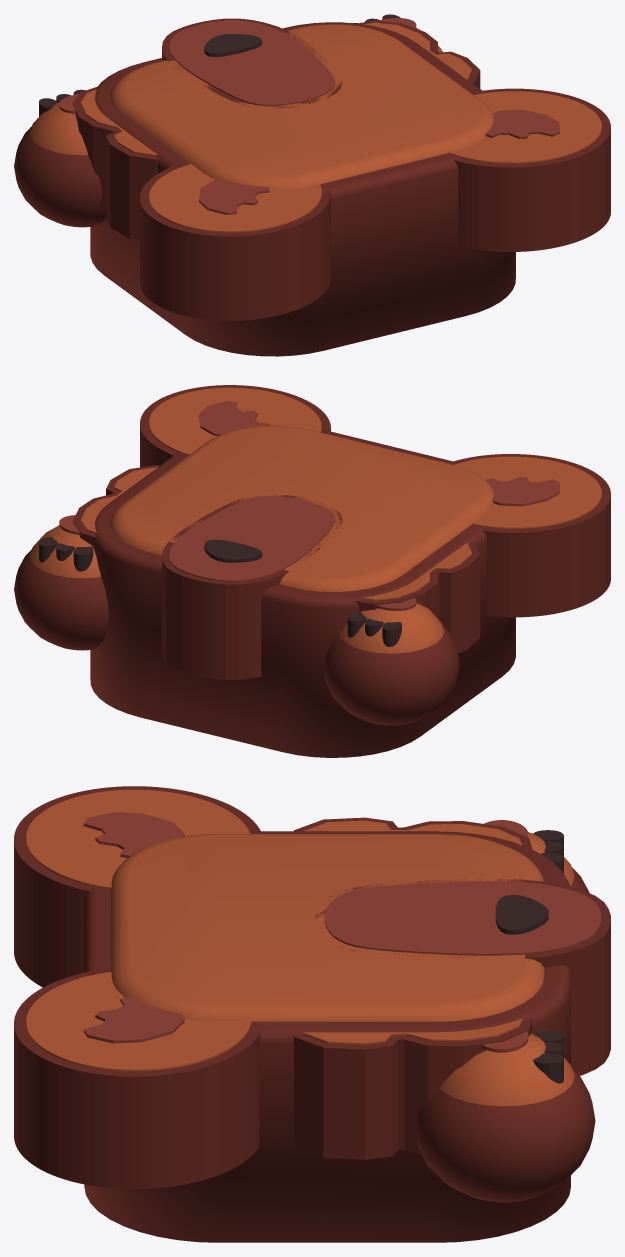
File: body_urso_pardo.fbx
The picture shows the model from 3 angles, top to bottom: view 1: azimuth 30°, elevation 25°; view 2: azimuth 150°, elevation 25°; view 3: azimuth 270°, elevation 25°; orthographic projection. The views are drawn at different scales.
Parts seen in each view (by area): view 1: body_urso_pardo_corpo, body_urso_pardo_mao_esq; view 2: body_urso_pardo_corpo, body_urso_pardo_mao_esq, body_urso_pardo_mao; view 3: body_urso_pardo_corpo, body_urso_pardo_mao, body_urso_pardo_mao_esq.
Part boxes in pixels (left/top/right/bottom): body_urso_pardo_corpo: left=72, top=18, right=610, bottom=356; body_urso_pardo_mao_esq: left=14, top=89, right=105, bottom=227; body_urso_pardo_corpo: left=72, top=385, right=610, bottom=757; body_urso_pardo_mao_esq: left=324, top=597, right=459, bottom=725; body_urso_pardo_mao: left=14, top=515, right=108, bottom=650; body_urso_pardo_corpo: left=14, top=786, right=610, bottom=1242; body_urso_pardo_mao: left=415, top=1030, right=595, bottom=1202; body_urso_pardo_mao_esq: left=484, top=820, right=589, bottom=892.
Bounding box in the file's own units: 5.65 × 2.06 × 4.9.
1 material, 1 textured.
